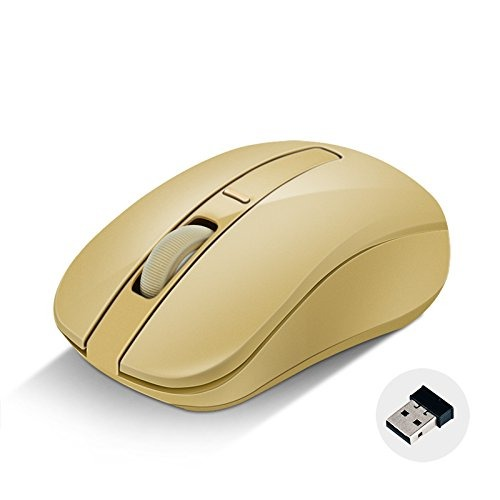mouse: (49, 136, 450, 418)
